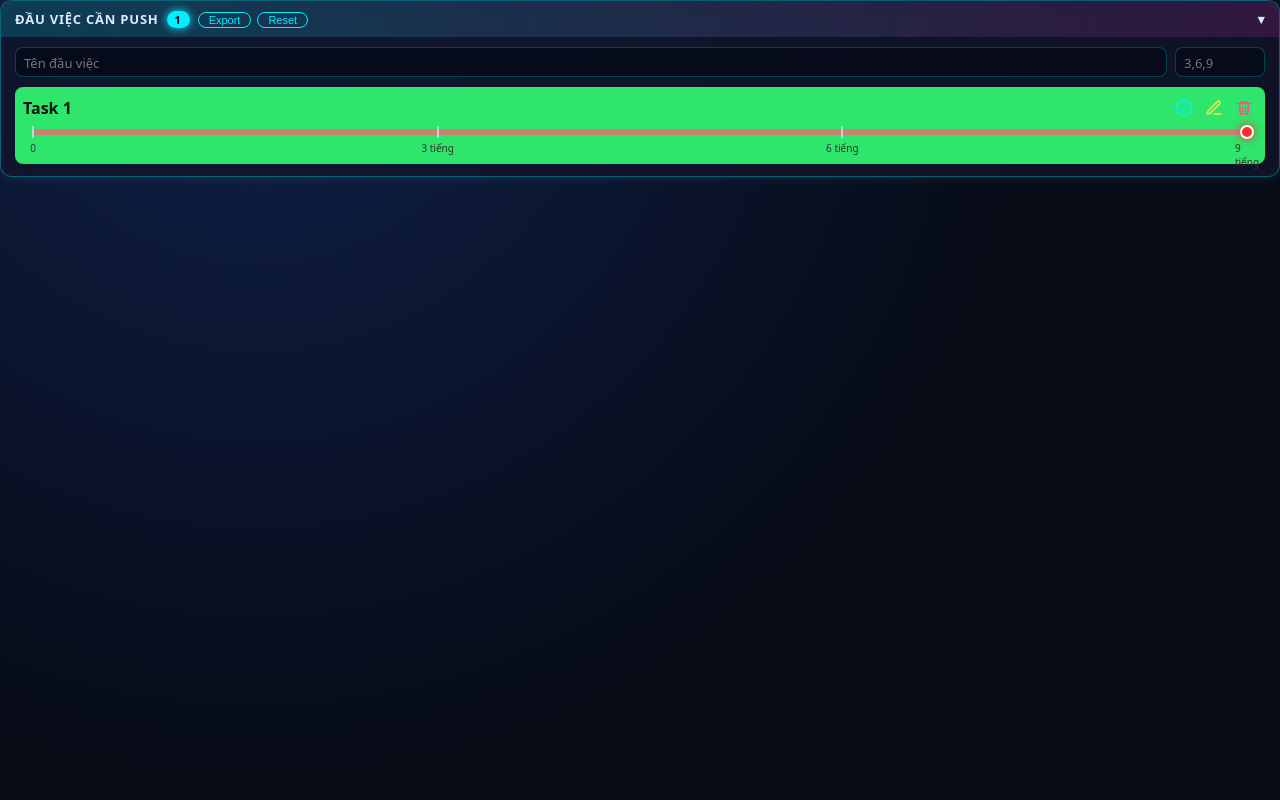
PushTaskPanel › đồng ý xác nhận mới gọi deleteTask
This screenshot has width=1280, height=800.
Expected: the text "Task 1" is shown, x1=23 y1=97 x2=72 y2=119
What coordinates should you click on to do the following:
click the button named "Xóa đầu việc"
I would click on:
 (1244, 108)
Its box is x1=1231 y1=95 x2=1257 y2=121.
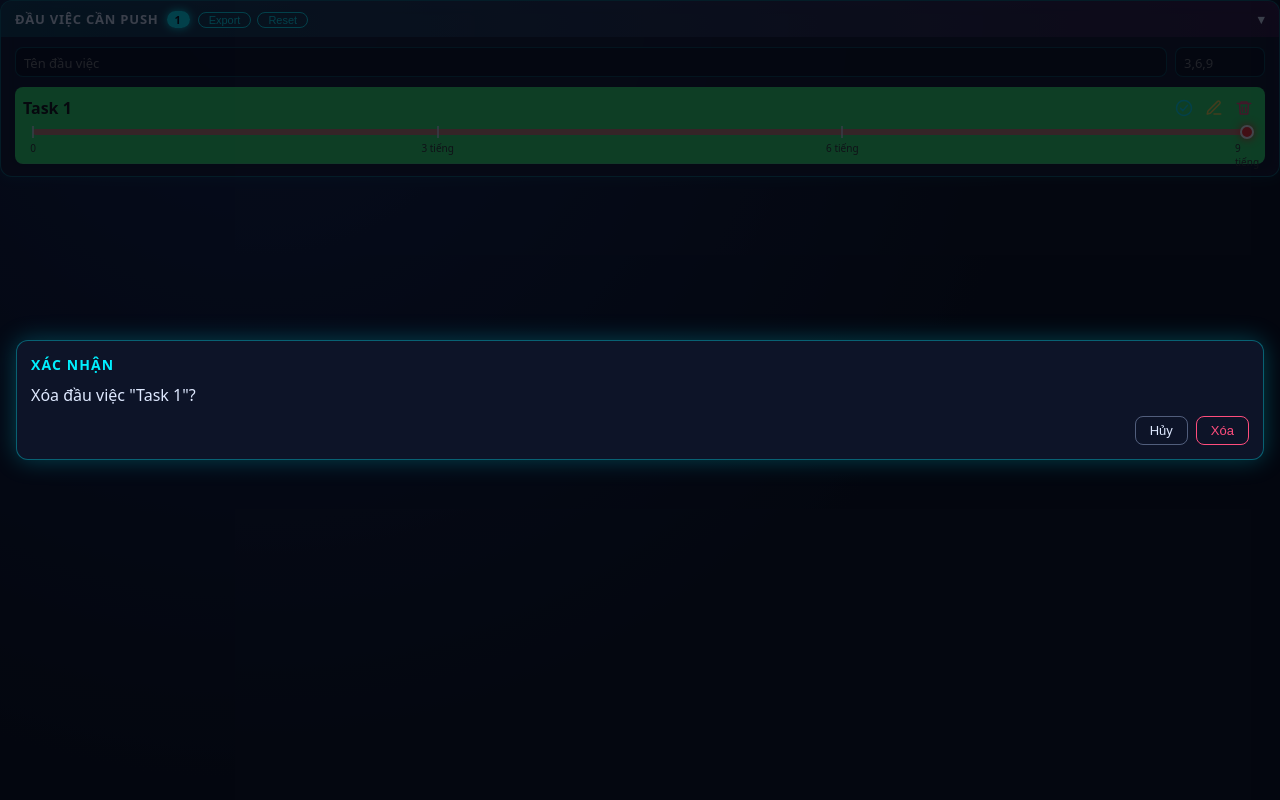
What coordinates should you click on to do the following:
click the button "Xóa"
I would click on:
 (1222, 430)
Its box is x1=1196 y1=416 x2=1249 y2=445.
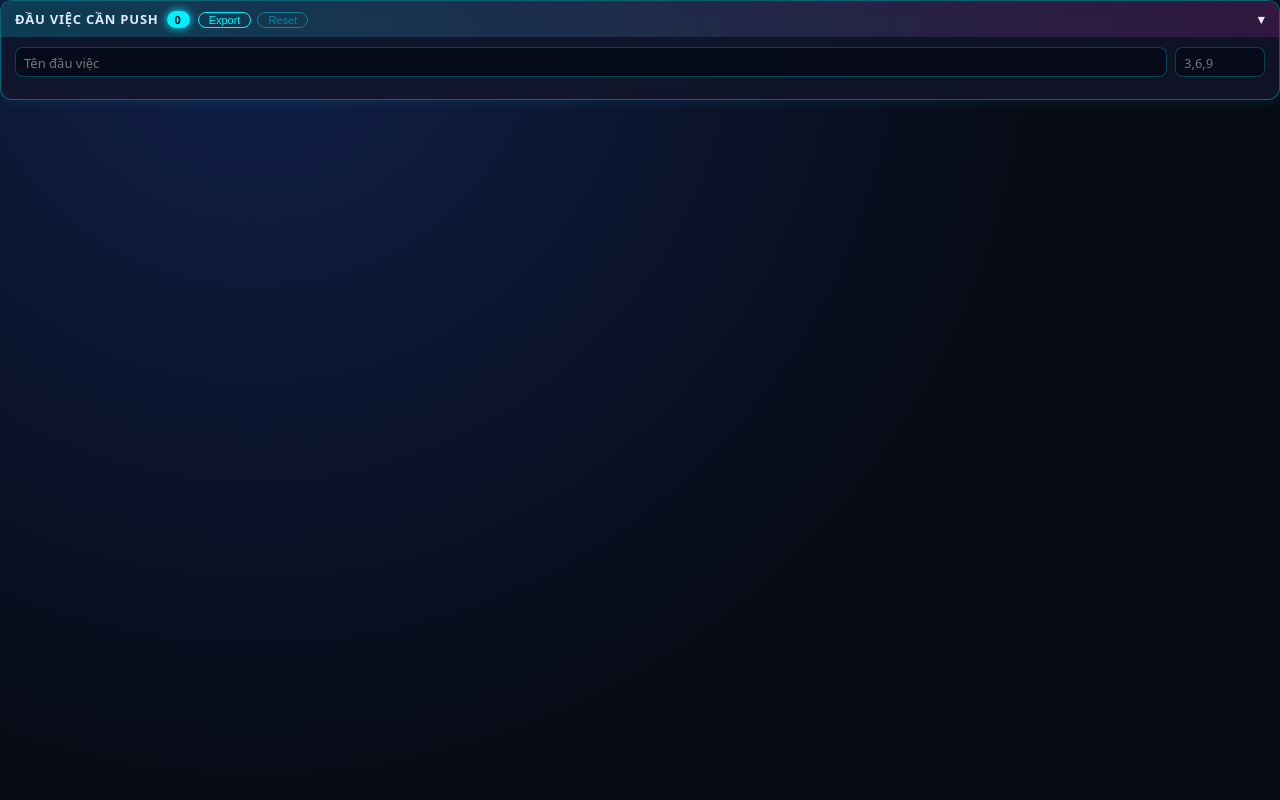
Result: the dialog is gone
Result: the element with test id "push-task-row-1" is gone
